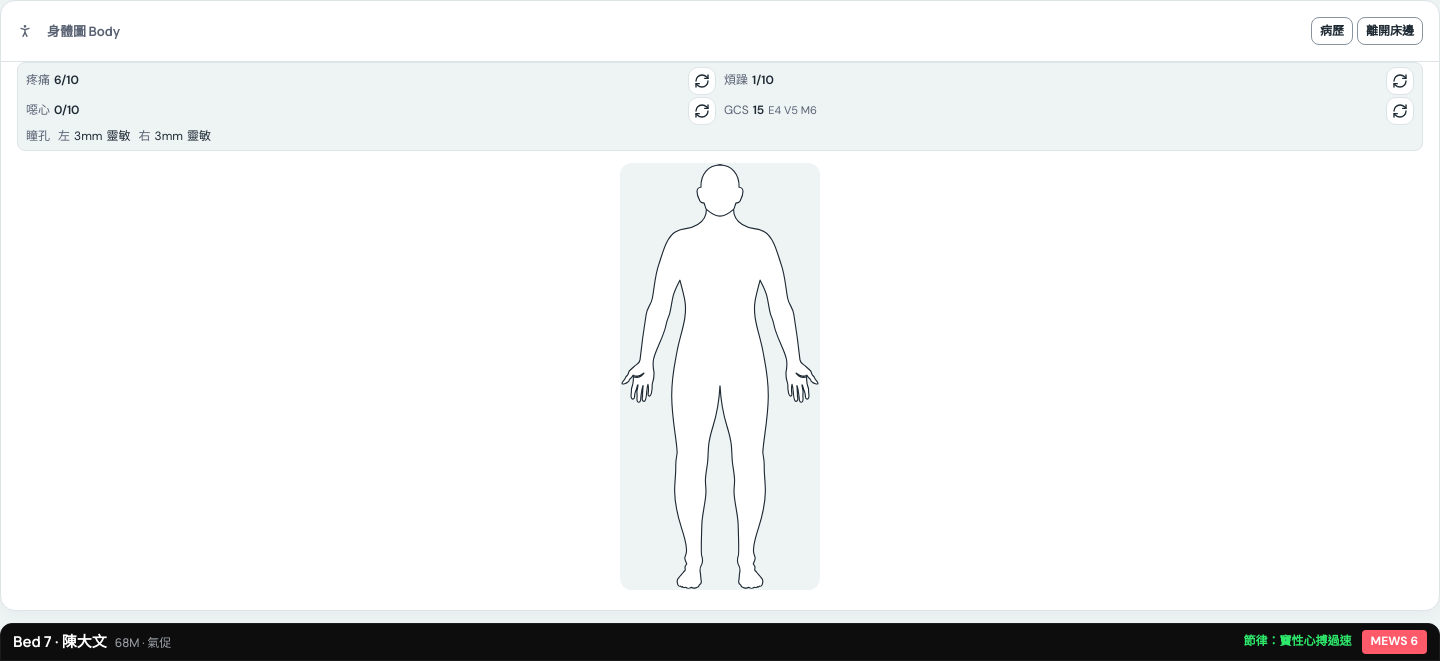
Test: 房間取代平面圖 › 病歷顯示已知病史和診斷
The width and height of the screenshot is (1440, 661).
Click the button with test id "open-medical-record": (1332, 31) [1311,17,1353,45]
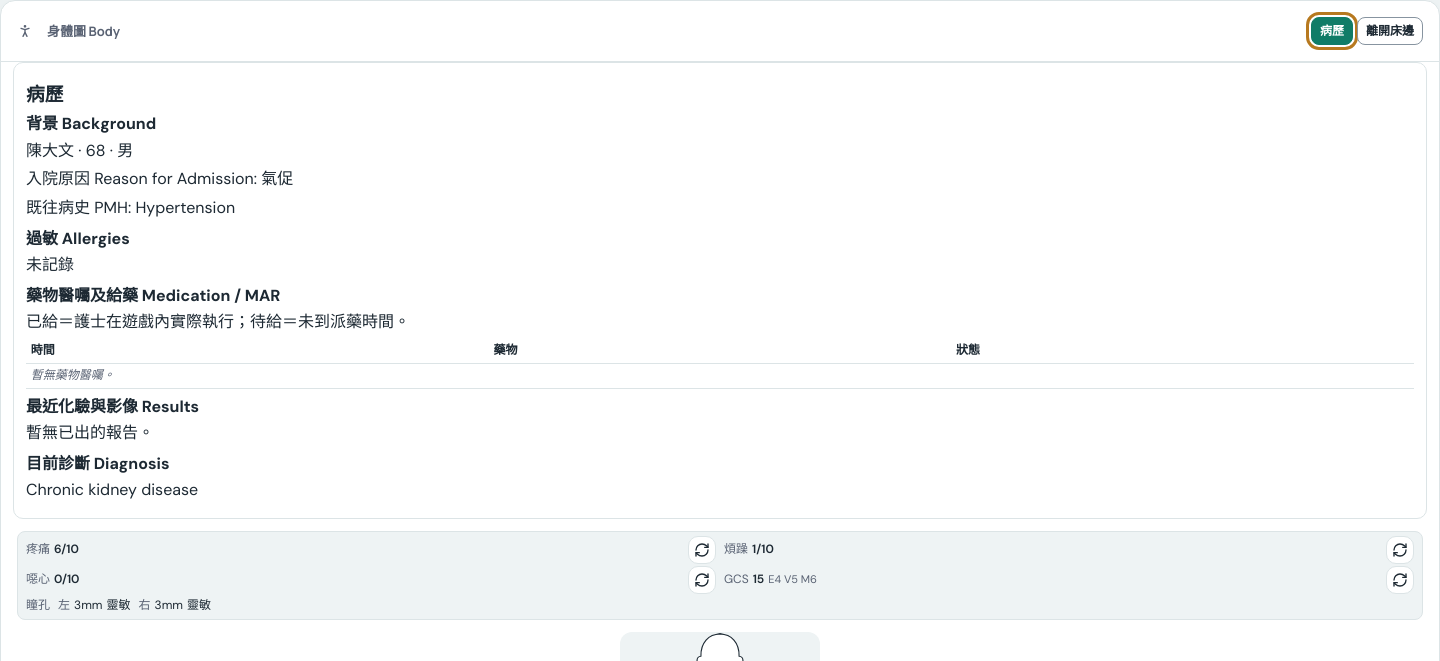
expect the element with test id "medical-record" shows "Hypertension": met, box [135,197,235,218]
expect the element with test id "medical-record" shows "Chronic kidney disease": met, box [26,479,198,500]
